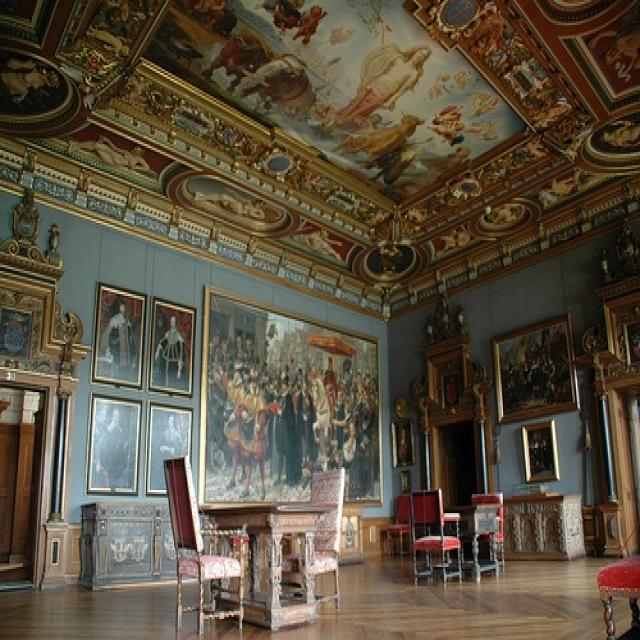chair: (162, 456, 245, 636), (279, 469, 344, 611), (409, 488, 464, 588), (598, 556, 638, 638), (472, 492, 507, 575), (380, 488, 414, 561)
